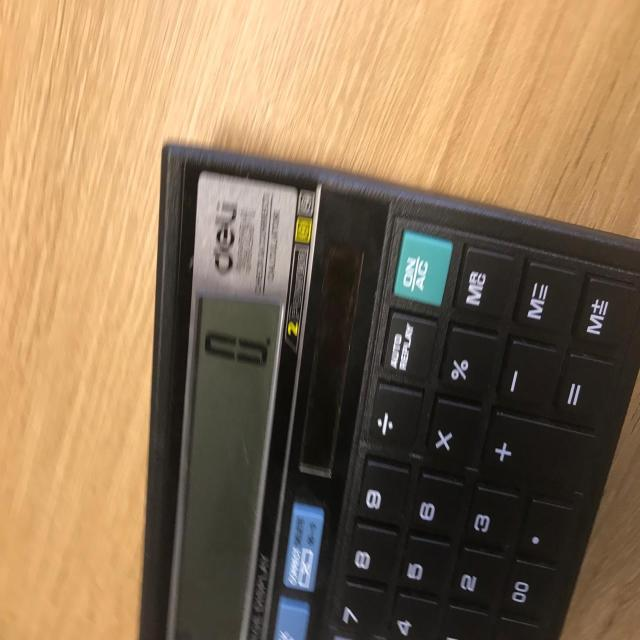calculator: (137, 140, 639, 638)
